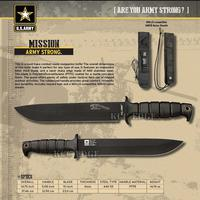knife: (15, 132, 193, 166), (8, 95, 197, 127)
